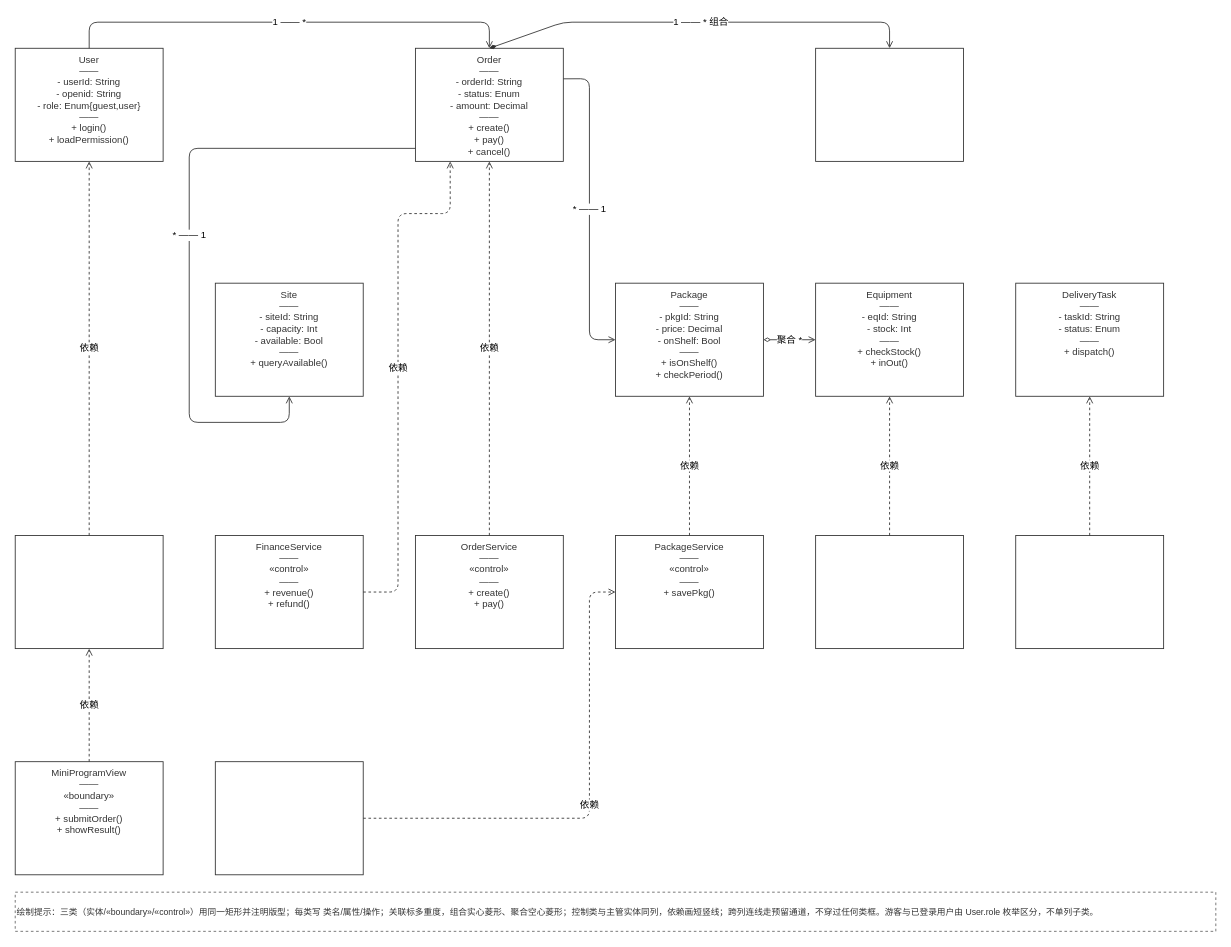
Image size: 1231x947. Some labels were removed from this diagram. The centre of each missing label's shape, as x and y in pixels:
DeliveryService —— «control» —— + dispatch(): point (1089, 592)
EquipmentService —— «control» —— + inOut() + sterilize(): point (889, 592)
OrderItem —— - itemId: String - qty: Int —— + computeSub(): point (889, 104)
UserAuthService —— «control» —— + auth(): point (88, 592)
WebAdminView —— «boundary» —— + maintain() + dispatchUI(): point (288, 818)
